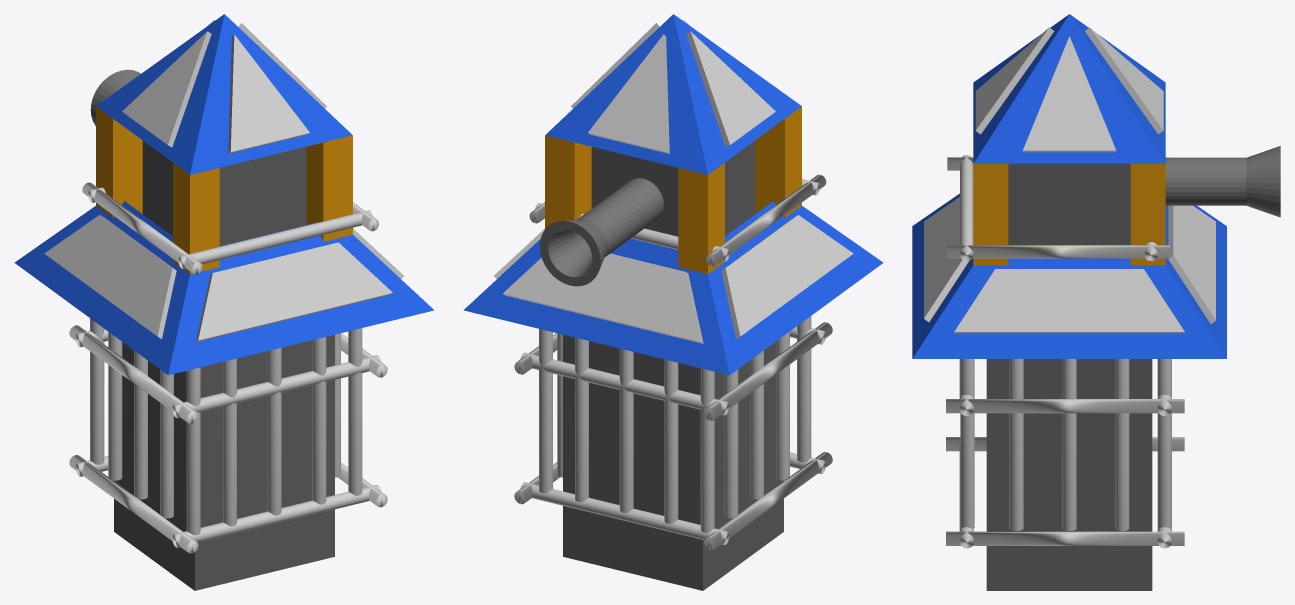
Rendered from Longtower_HealthUpgrade.fbx.
3 renders of one model, left to right at view 1: azimuth 30°, elevation 25°; view 2: azimuth 150°, elevation 25°; view 3: azimuth 270°, elevation 25°, orthographic. The views are drawn at different scales.
Visible parts, largest first — view 1: Cube, Cylinder.002, Cylinder.004, Cylinder.003, Cylinder.001, Cylinder.005, Cylinder; view 2: Cube, Cylinder.002, Cylinder, Cylinder.004, Cylinder.003, Cylinder.001, Cylinder.005; view 3: Cube, Cylinder.004, Cylinder, Cylinder.005, Cylinder.003, Cylinder.002, Cylinder.001.
Part boxes in pixels (x1=…): Cube: x1=14, y1=14, x2=433, y2=590; Cylinder.002: x1=90, y1=318, x2=362, y2=535; Cylinder.004: x1=108, y1=332, x2=340, y2=518; Cylinder.003: x1=69, y1=455, x2=387, y2=553; Cylinder.001: x1=69, y1=325, x2=387, y2=423; Cylinder.005: x1=82, y1=182, x2=378, y2=274; Cylinder: x1=90, y1=69, x2=140, y2=125; Cube: x1=464, y1=14, x2=883, y2=590; Cylinder.002: x1=539, y1=316, x2=811, y2=532; Cylinder: x1=539, y1=178, x2=663, y2=286; Cylinder.004: x1=557, y1=331, x2=789, y2=518; Cylinder.003: x1=514, y1=452, x2=832, y2=550; Cylinder.001: x1=514, y1=322, x2=832, y2=420; Cylinder.005: x1=529, y1=174, x2=826, y2=266; Cube: x1=912, y1=14, x2=1226, y2=590; Cylinder.004: x1=1009, y1=359, x2=1129, y2=530; Cylinder: x1=1165, y1=146, x2=1280, y2=217; Cylinder.005: x1=947, y1=155, x2=1169, y2=260; Cylinder.003: x1=946, y1=437, x2=1184, y2=548; Cylinder.002: x1=960, y1=359, x2=1171, y2=528; Cylinder.001: x1=946, y1=359, x2=1184, y2=415.
Size of the model in its own units: 380 by 722 by 445.
